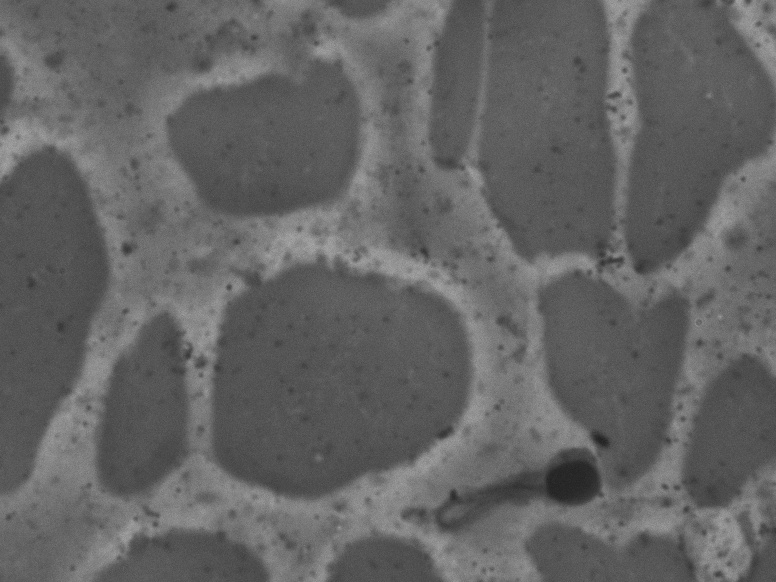Abnormal: (442, 440, 613, 536)
